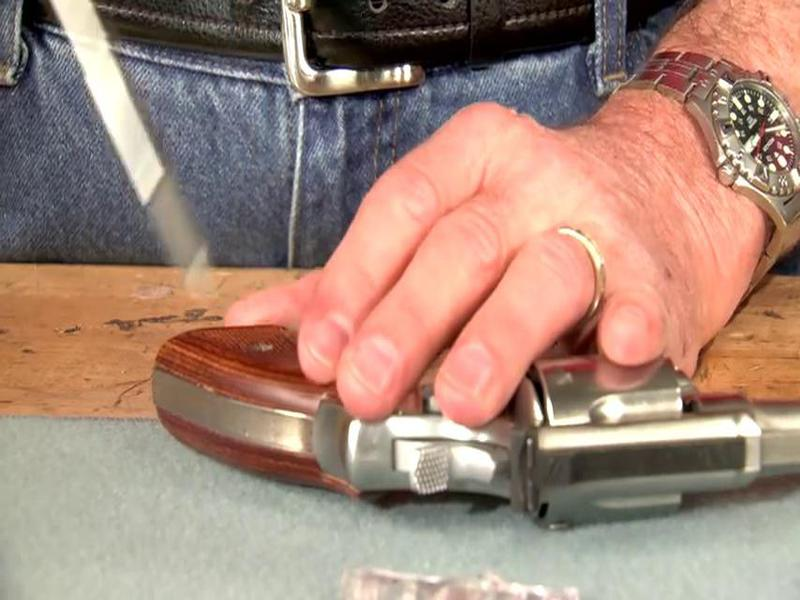Revolver: (77, 280, 800, 561)
